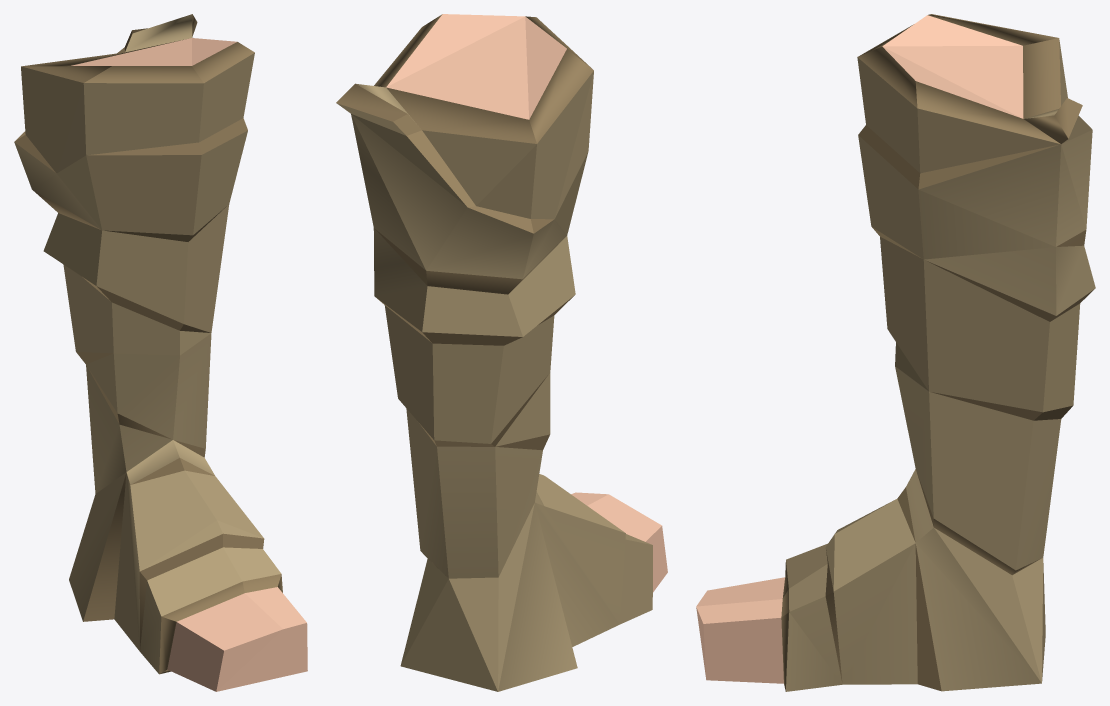
The model's file is Chr_LegRight_Female_03_Static.fbx.
3 views of the same model, side by side, from view 1: azimuth 30°, elevation 25°; view 2: azimuth 150°, elevation 25°; view 3: azimuth 270°, elevation 25° (orthographic). The views are drawn at different scales.
Parts seen in each view (by area): view 1: Chr_LegRight_Female_03_Static; view 2: Chr_LegRight_Female_03_Static; view 3: Chr_LegRight_Female_03_Static.
Part boxes in pixels (x1=…): Chr_LegRight_Female_03_Static: x1=14, y1=14, x2=307, y2=691; Chr_LegRight_Female_03_Static: x1=336, y1=14, x2=667, y2=691; Chr_LegRight_Female_03_Static: x1=696, y1=14, x2=1095, y2=691.
Bounding box in the file's own units: 0.1384 × 0.4043 × 0.2371.
